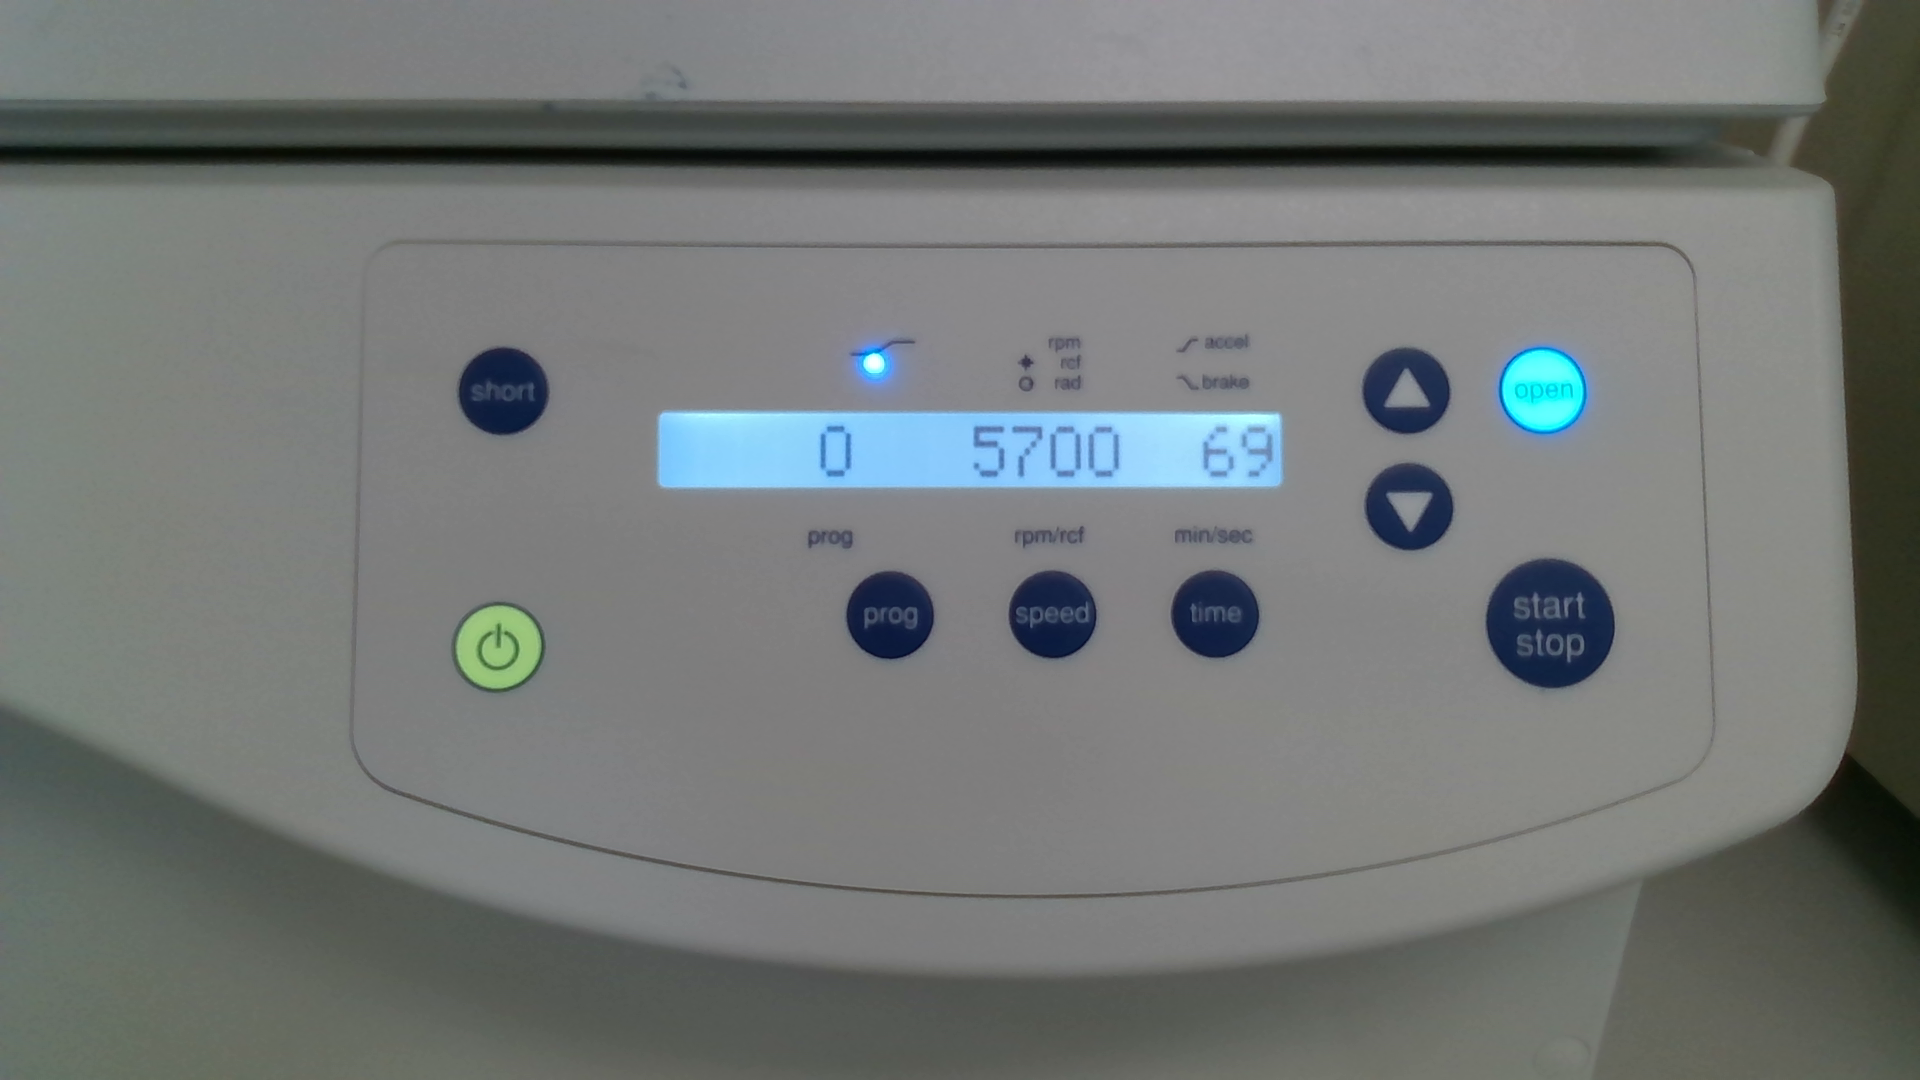0: (1050, 426, 1081, 477), (1088, 426, 1120, 477), (820, 425, 851, 477)
5: (973, 426, 1004, 477)
6: (1203, 426, 1234, 477)
7: (1011, 426, 1043, 477)
9: (1241, 426, 1273, 477)
open_on: (1497, 345, 1588, 435)
power_on: (452, 603, 546, 694)
